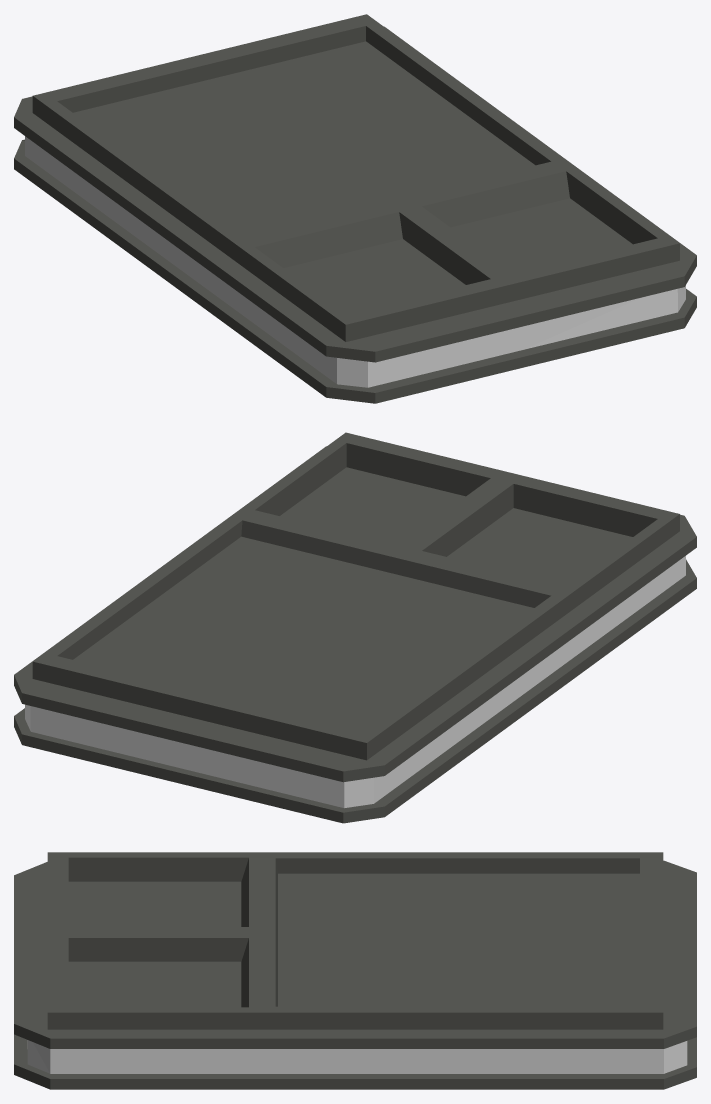
Rendered from Engine1.fbx.
3 views of the same model, one above another, from view 1: azimuth 30°, elevation 25°; view 2: azimuth 150°, elevation 25°; view 3: azimuth 270°, elevation 25° (orthographic).
Visible parts, largest first — view 1: Engine1; view 2: Engine1; view 3: Engine1.
Part boxes in pixels (x1,y1,x2,y2): Engine1: [14, 14, 696, 403]; Engine1: [14, 432, 696, 823]; Engine1: [14, 852, 696, 1089].
Bounding box in the file's own units: 60.17 × 10.76 × 97.64.
